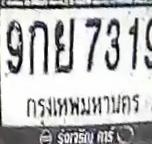1: (128, 18, 140, 70)
3: (103, 17, 120, 70)
7: (84, 17, 101, 72)
9: (5, 20, 23, 74)
A01: (28, 20, 48, 75)
A34: (53, 17, 74, 73)
BKK: (22, 92, 143, 122)
